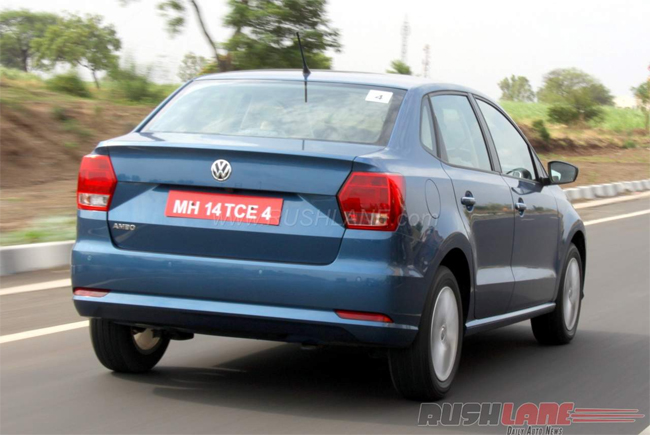number_plate: (160, 182, 294, 230)
